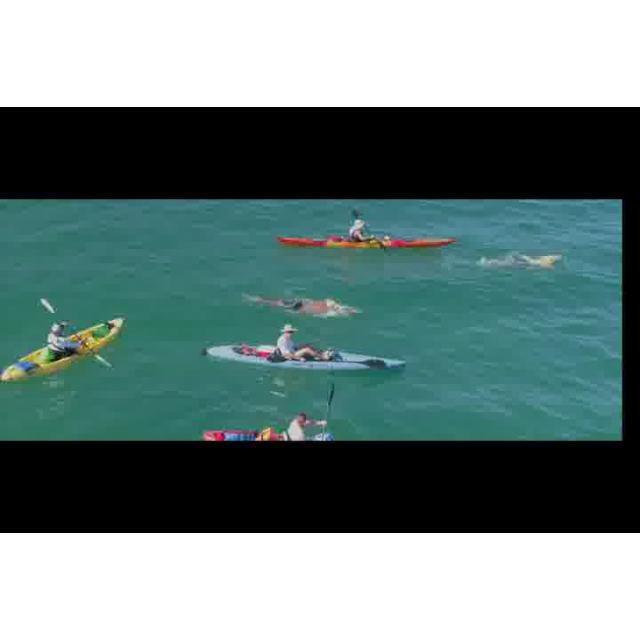human: (243, 291, 357, 318)
